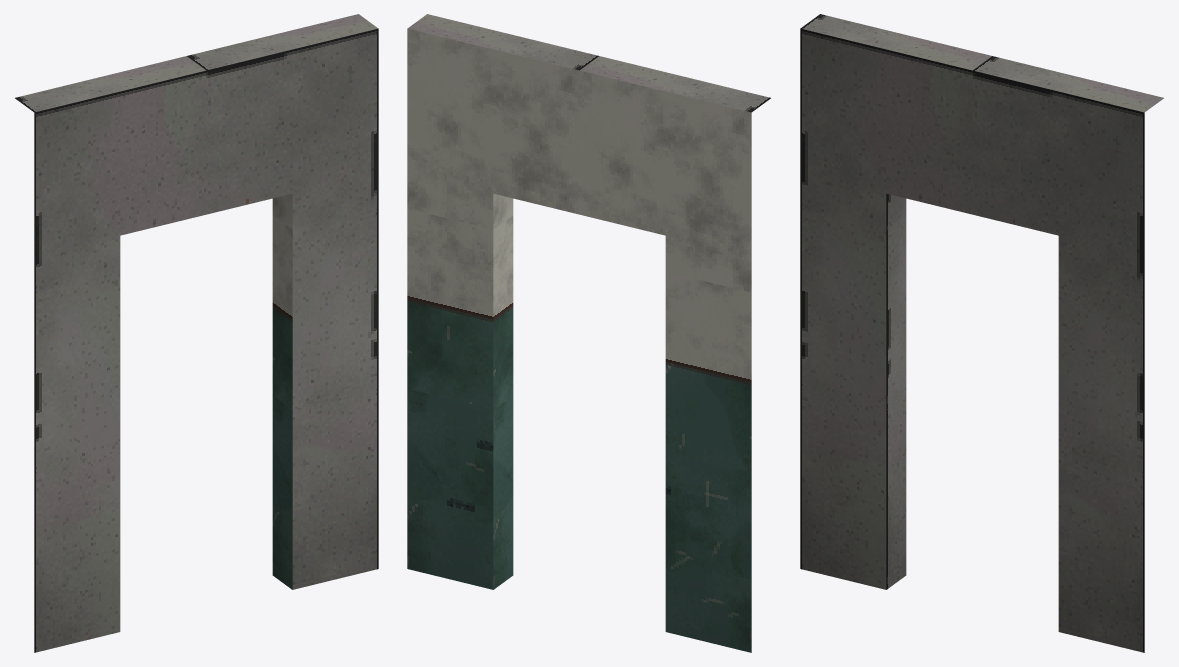
The model's file is wall_doorway_panel.glb.
The picture shows the model from 3 angles, left to right: view 1: azimuth 30°, elevation 25°; view 2: azimuth 150°, elevation 25°; view 3: azimuth 330°, elevation 25°; orthographic projection.
Parts seen in each view (by area): view 1: wall_doorway_panel; view 2: wall_doorway_panel; view 3: wall_doorway_panel.
Part boxes in pixels (bbox=[...]): wall_doorway_panel: bbox=[15, 14, 378, 652]; wall_doorway_panel: bbox=[407, 14, 770, 652]; wall_doorway_panel: bbox=[800, 14, 1163, 652].
Bounding box in the file's own units: 2 × 3 × 0.2.
